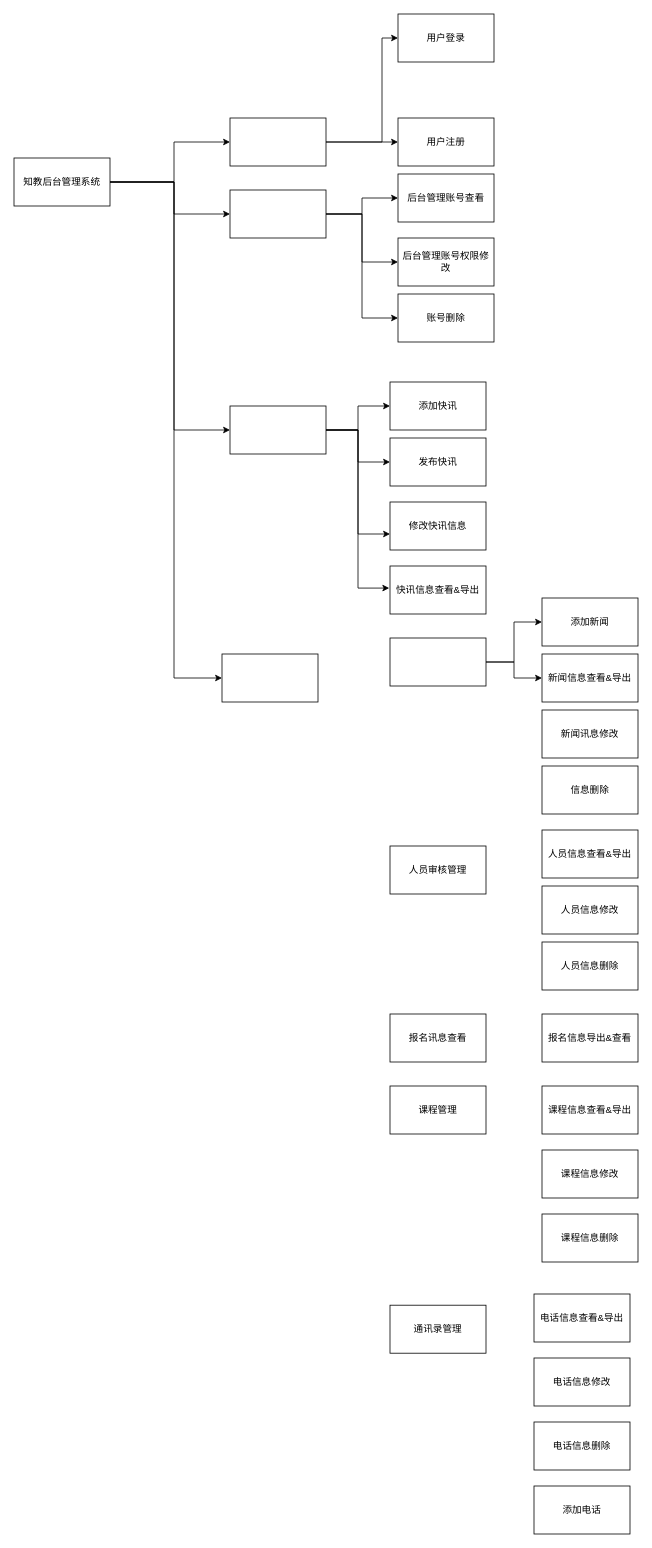
This 652x1548 diagram has some shape labels left out. The shapes that lost their labels are listed below. From the top down, each one's centre as x and y in pixels, then its label:
At (x=277, y=141): "用户注册登录".
At (x=277, y=213): "账号权限管理".
At (x=277, y=429): "知教快讯".
At (x=269, y=677): "知教活动管理".
At (x=437, y=661): "支教活动新闻管理".
